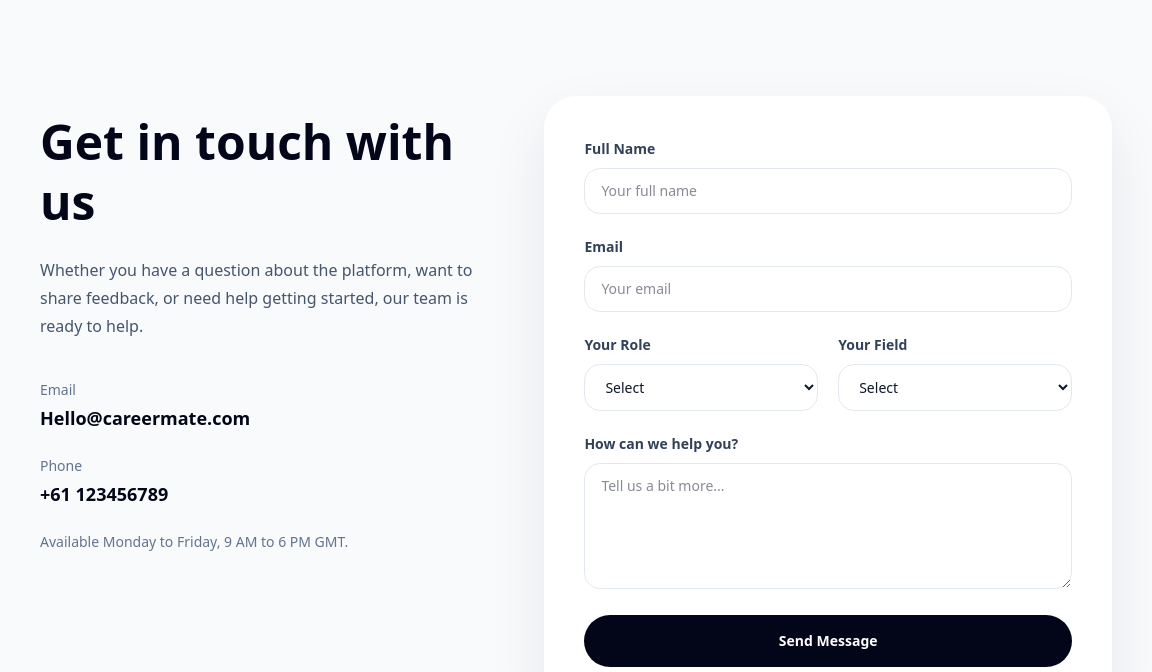
it: Contact form › clears individual field error as user edits that field
Click the button "Send Message". click: coordinates (828, 641)
box: [584,615,1072,667]
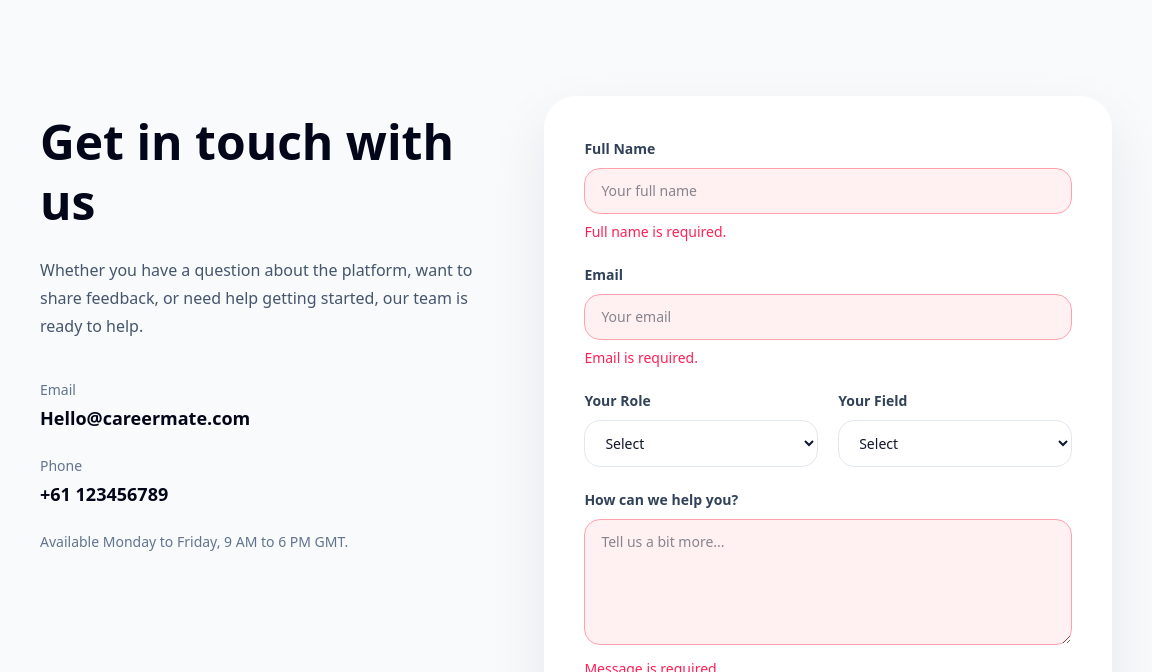
Expected: the text "Full name is required." is shown, [584,222,726,241]
Type "J" into the field labelled "Full Name". click: coordinates (828, 191)
box: [584,168,1072,214]
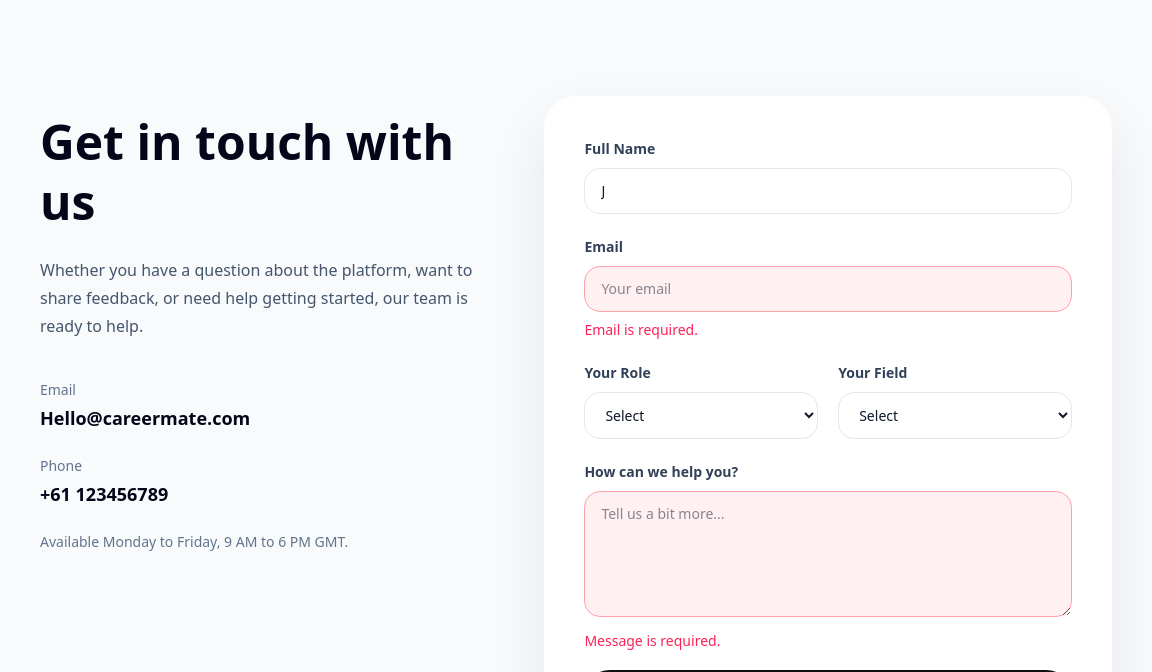
Expected: the text "Email is required." is shown, [584,320,698,339]
Expected: the text "Full name is required." is gone
